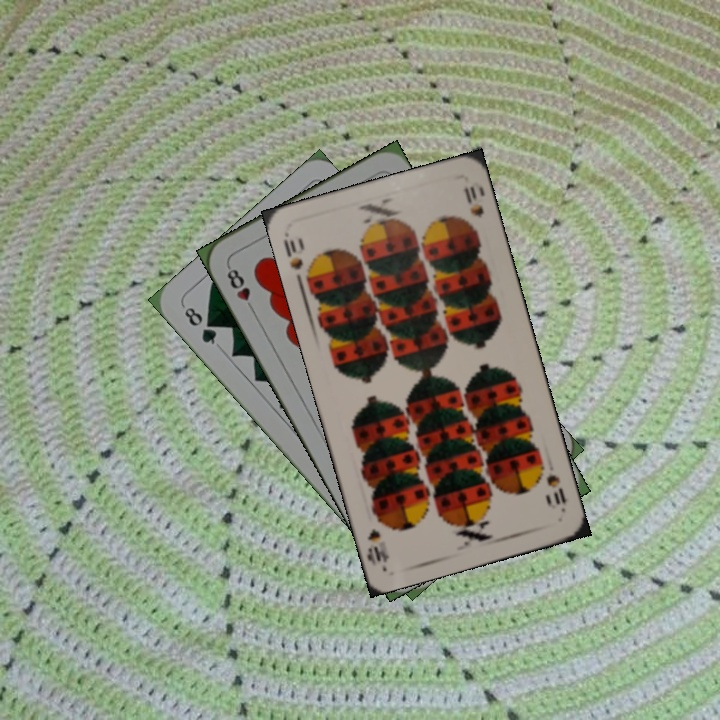G8: (180, 301, 220, 347)
H8: (222, 261, 258, 316)
S10: (279, 230, 316, 288), (542, 470, 569, 507)
